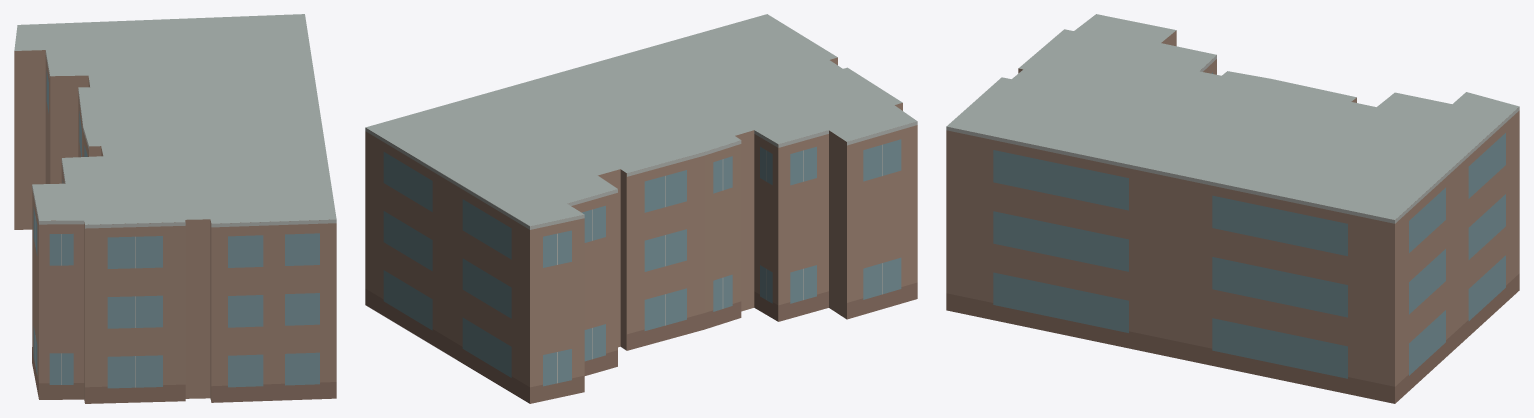
Rendered from survey-upis-32492126.glb.
3 views of the same model, side by side, from view 1: azimuth 30°, elevation 25°; view 2: azimuth 150°, elevation 25°; view 3: azimuth 270°, elevation 25° (orthographic). The views are drawn at different scales.
Visible parts, largest first — view 1: survey-upis-32492126.tmp; view 2: survey-upis-32492126.tmp; view 3: survey-upis-32492126.tmp.
Part boxes in pixels (bbox=[...]): survey-upis-32492126.tmp: bbox=[14, 14, 336, 403]; survey-upis-32492126.tmp: bbox=[365, 14, 917, 403]; survey-upis-32492126.tmp: bbox=[946, 14, 1519, 403].
Bounding box in the file's own units: 28.75 × 11.95 × 33.8.
